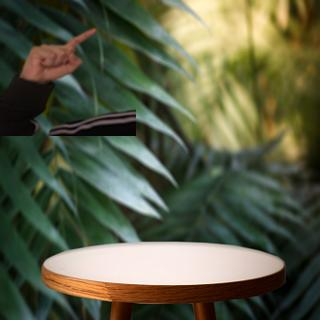WHY: (20, 23, 105, 83)
